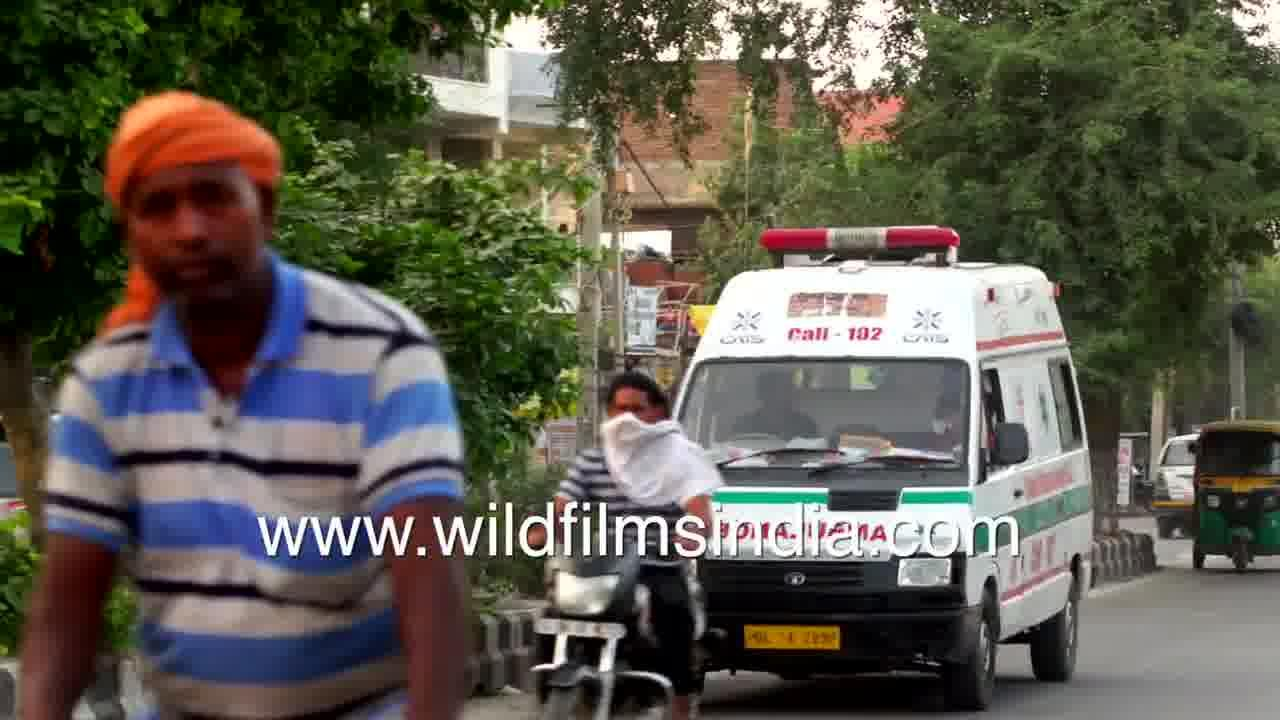AMBULANCE: (649, 210, 1082, 408)
